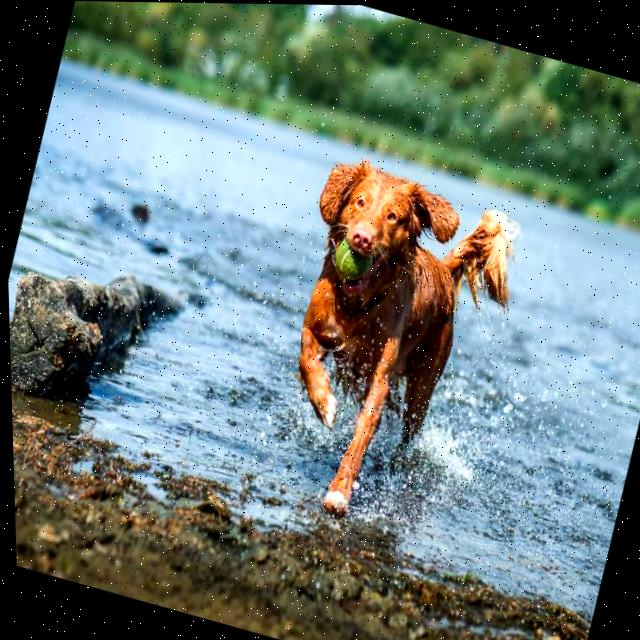dog: (188, 117, 576, 581)
